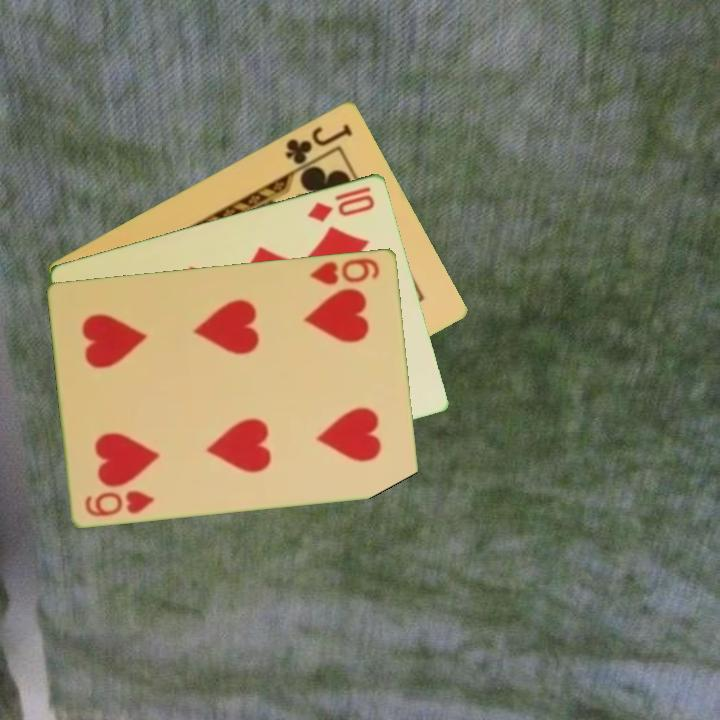10d: (304, 182, 378, 225)
6h: (306, 254, 383, 287), (81, 486, 158, 519)
Jc: (281, 119, 356, 167)
